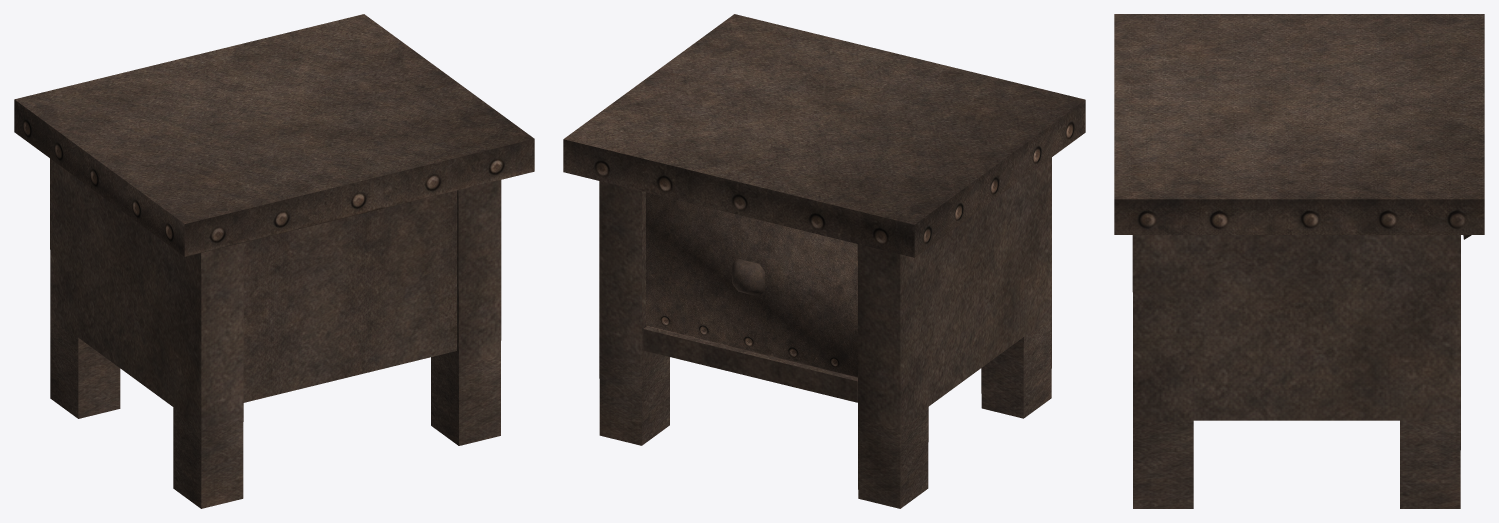
File: Bedroom_Bed_Stool_Metal.fbx
The picture shows the model from 3 angles, left to right: view 1: azimuth 30°, elevation 25°; view 2: azimuth 150°, elevation 25°; view 3: azimuth 270°, elevation 25°; orthographic projection. The views are drawn at different scales.
Parts seen in each view (by area): view 1: Bedroom_Bed_Stool_Metal; view 2: Bedroom_Bed_Stool_Metal; view 3: Bedroom_Bed_Stool_Metal.
Part boxes in pixels (bbox=[...]): Bedroom_Bed_Stool_Metal: bbox=[14, 14, 534, 508]; Bedroom_Bed_Stool_Metal: bbox=[563, 14, 1085, 508]; Bedroom_Bed_Stool_Metal: bbox=[1114, 14, 1484, 508].
Size of the model in its own units: 51.72 by 41.99 by 43.65.
